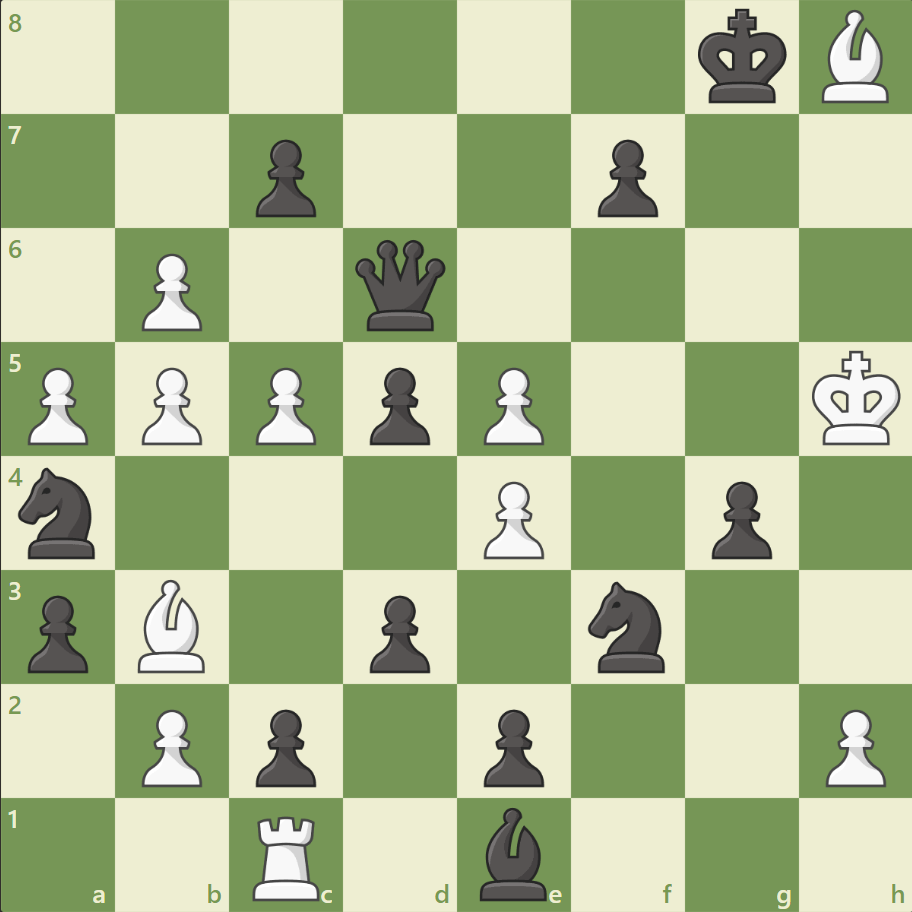B: (812, 6, 896, 109), (131, 574, 215, 676)
K: (806, 344, 906, 452)
P: (133, 246, 208, 337), (20, 359, 95, 450), (133, 359, 208, 450), (247, 359, 322, 450), (474, 359, 549, 450), (474, 473, 549, 564), (133, 700, 208, 791), (815, 700, 889, 791)
R: (246, 806, 329, 904)
b: (471, 801, 555, 904)
k: (692, 4, 792, 112)
n: (11, 461, 108, 564), (579, 575, 676, 677)
p: (247, 132, 322, 223), (701, 473, 776, 564), (20, 586, 95, 677), (247, 700, 322, 791), (474, 700, 549, 791), (588, 132, 662, 223), (361, 359, 435, 450), (361, 586, 435, 677)
q: (351, 236, 450, 335)
